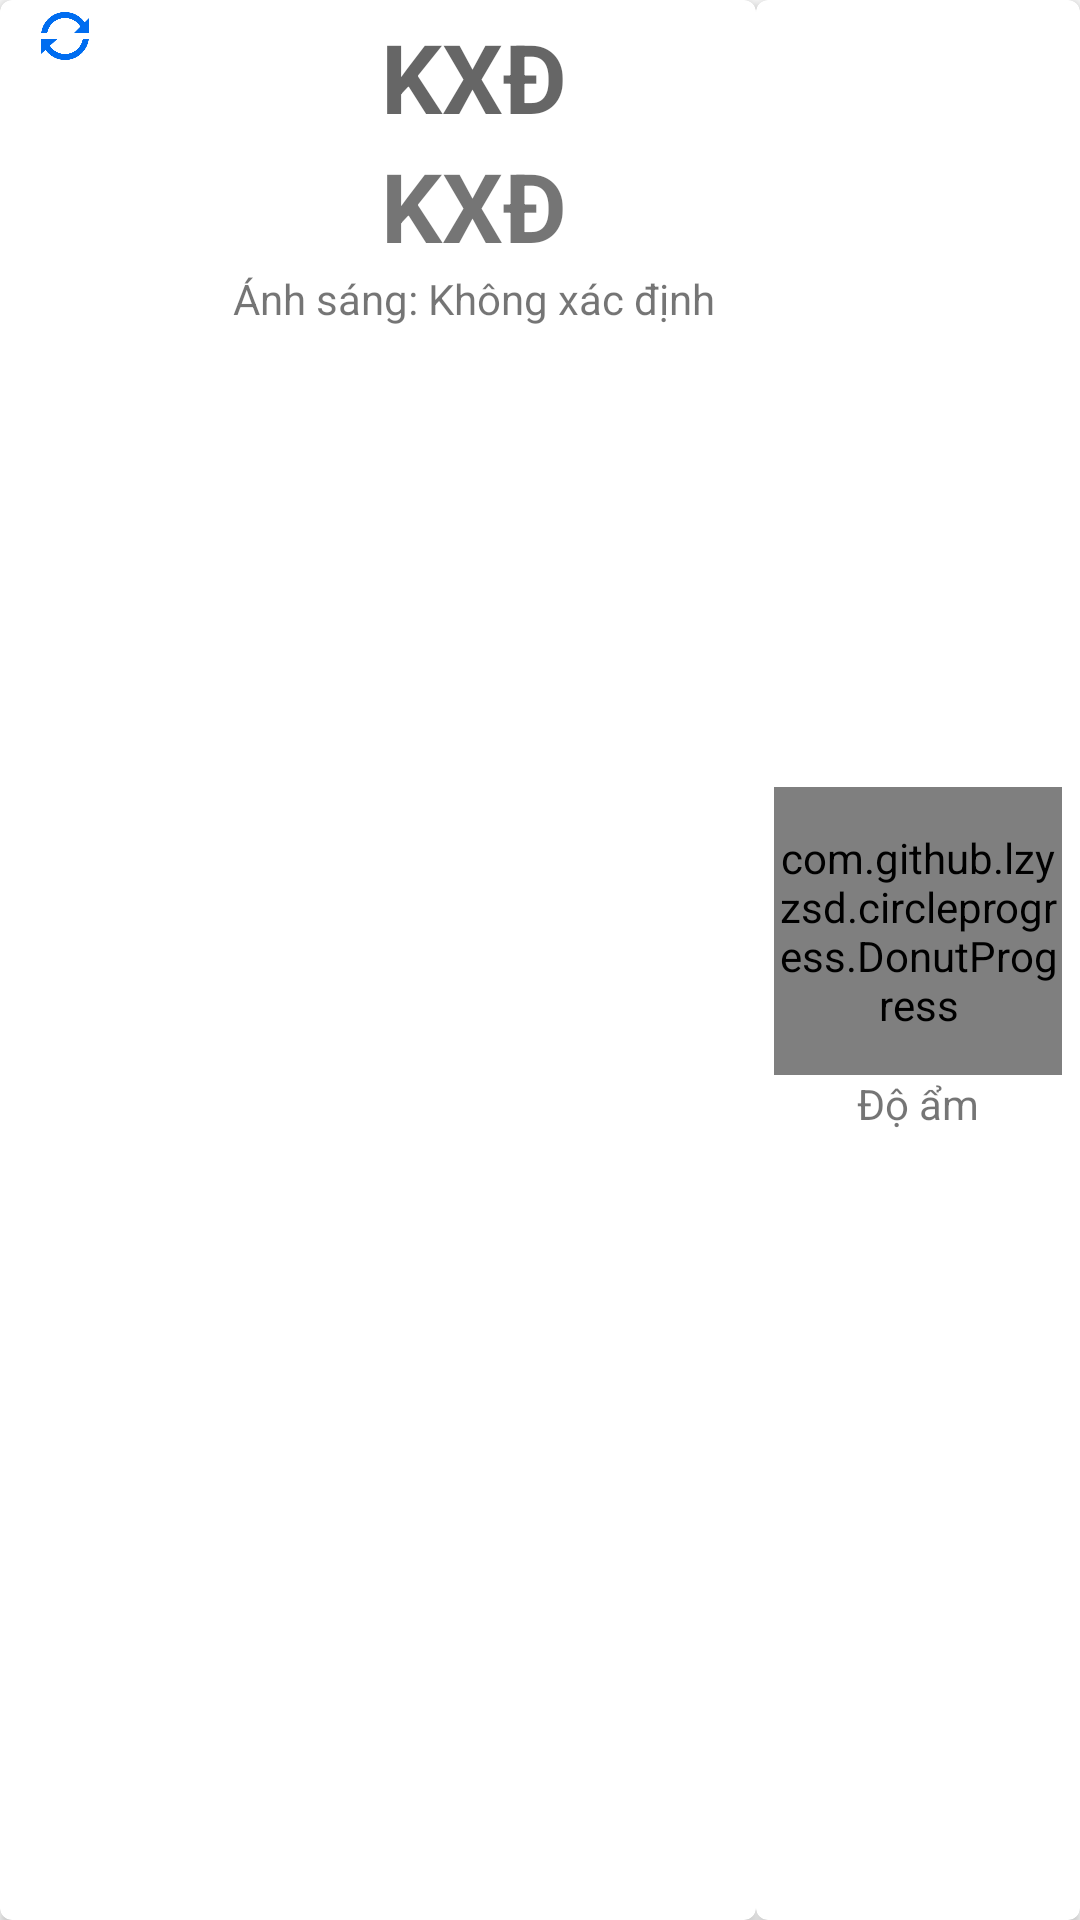

Where to tap for icons on this 1080x1920 app screen, as point (x, y):
reload: point (65, 36)
